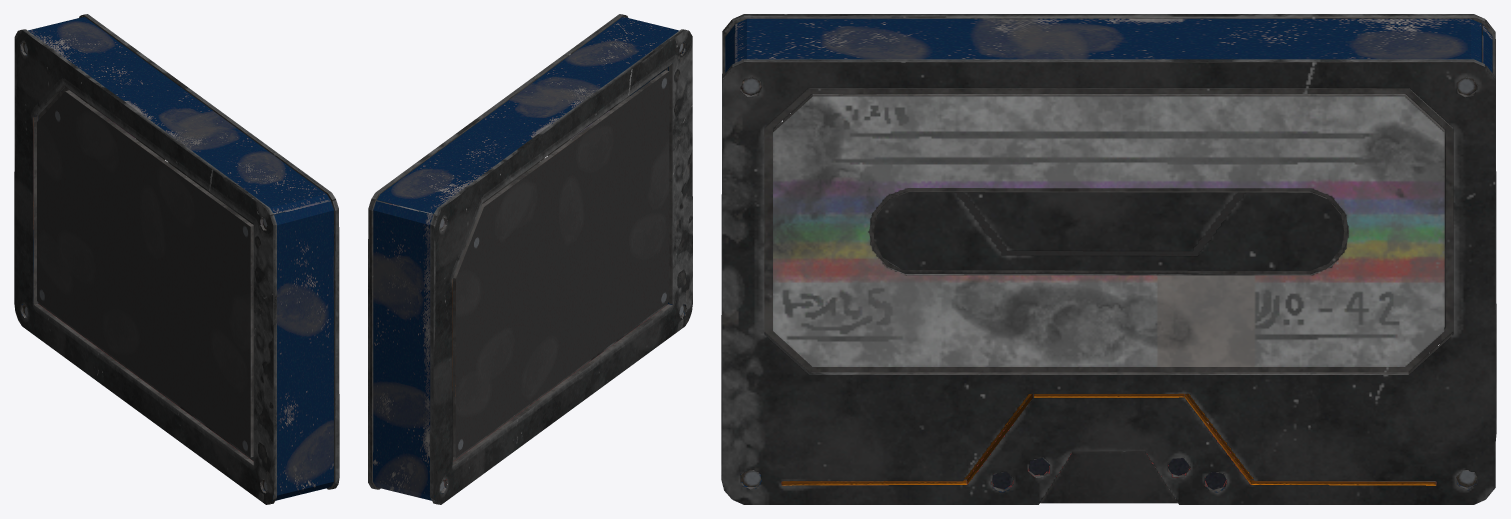
File: Tape.fbx
The picture shows the model from 3 angles, left to right: view 1: azimuth 30°, elevation 25°; view 2: azimuth 150°, elevation 25°; view 3: azimuth 270°, elevation 25°; orthographic projection. The views are drawn at different scales.
Parts seen in each view (by area): view 1: Cassette; view 2: Cassette; view 3: Cassette.
Boxes of the visible parts, x1,y1,x2,y2 form: Cassette: (14, 14, 339, 504); Cassette: (368, 14, 692, 504); Cassette: (721, 14, 1496, 504).
Size of the model in its own units: 4.28 by 18.39 by 29.19.
